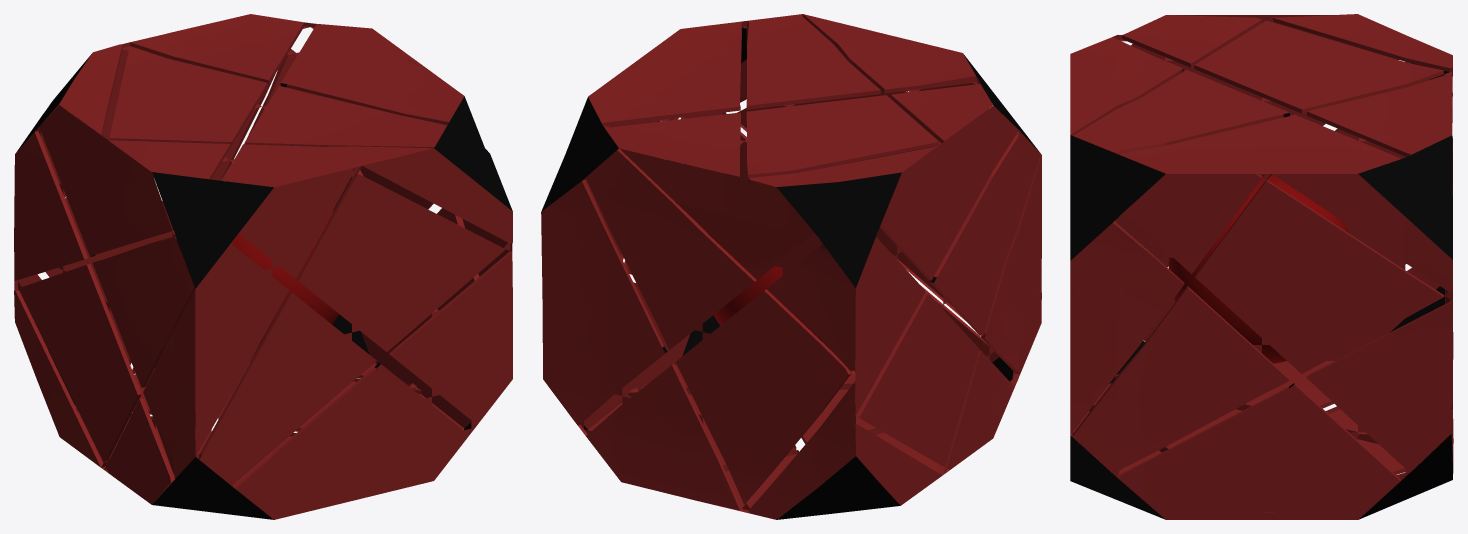
Rendered from altCoreBox.obj.
The picture shows the model from 3 angles, left to right: view 1: azimuth 30°, elevation 25°; view 2: azimuth 150°, elevation 25°; view 3: azimuth 270°, elevation 25°; orthographic projection. The views are drawn at different scales.
Visible parts, largest first — view 1: TansparentFaces transparentCube, TriangleSides transparentCube, Core; view 2: TansparentFaces transparentCube, TriangleSides transparentCube, Core; view 3: TansparentFaces transparentCube, TriangleSides transparentCube, Core.
Boxes of the visible parts, x1=… form: TansparentFaces transparentCube: x1=14, y1=14, x2=512, y2=519; TriangleSides transparentCube: x1=16, y1=54, x2=512, y2=519; Core: x1=176, y1=210, x2=339, y2=359; TansparentFaces transparentCube: x1=541, y1=14, x2=1041, y2=519; TriangleSides transparentCube: x1=541, y1=27, x2=1039, y2=519; Core: x1=707, y1=181, x2=855, y2=349; TansparentFaces transparentCube: x1=1070, y1=14, x2=1453, y2=519; TriangleSides transparentCube: x1=1070, y1=63, x2=1452, y2=519; Core: x1=1168, y1=174, x2=1349, y2=363.
Size of the model in its own units: 14.67 by 14.74 by 14.73.
